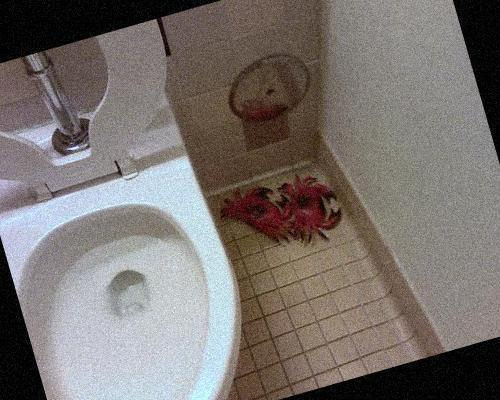Sanitario: (0, 60, 274, 400)
